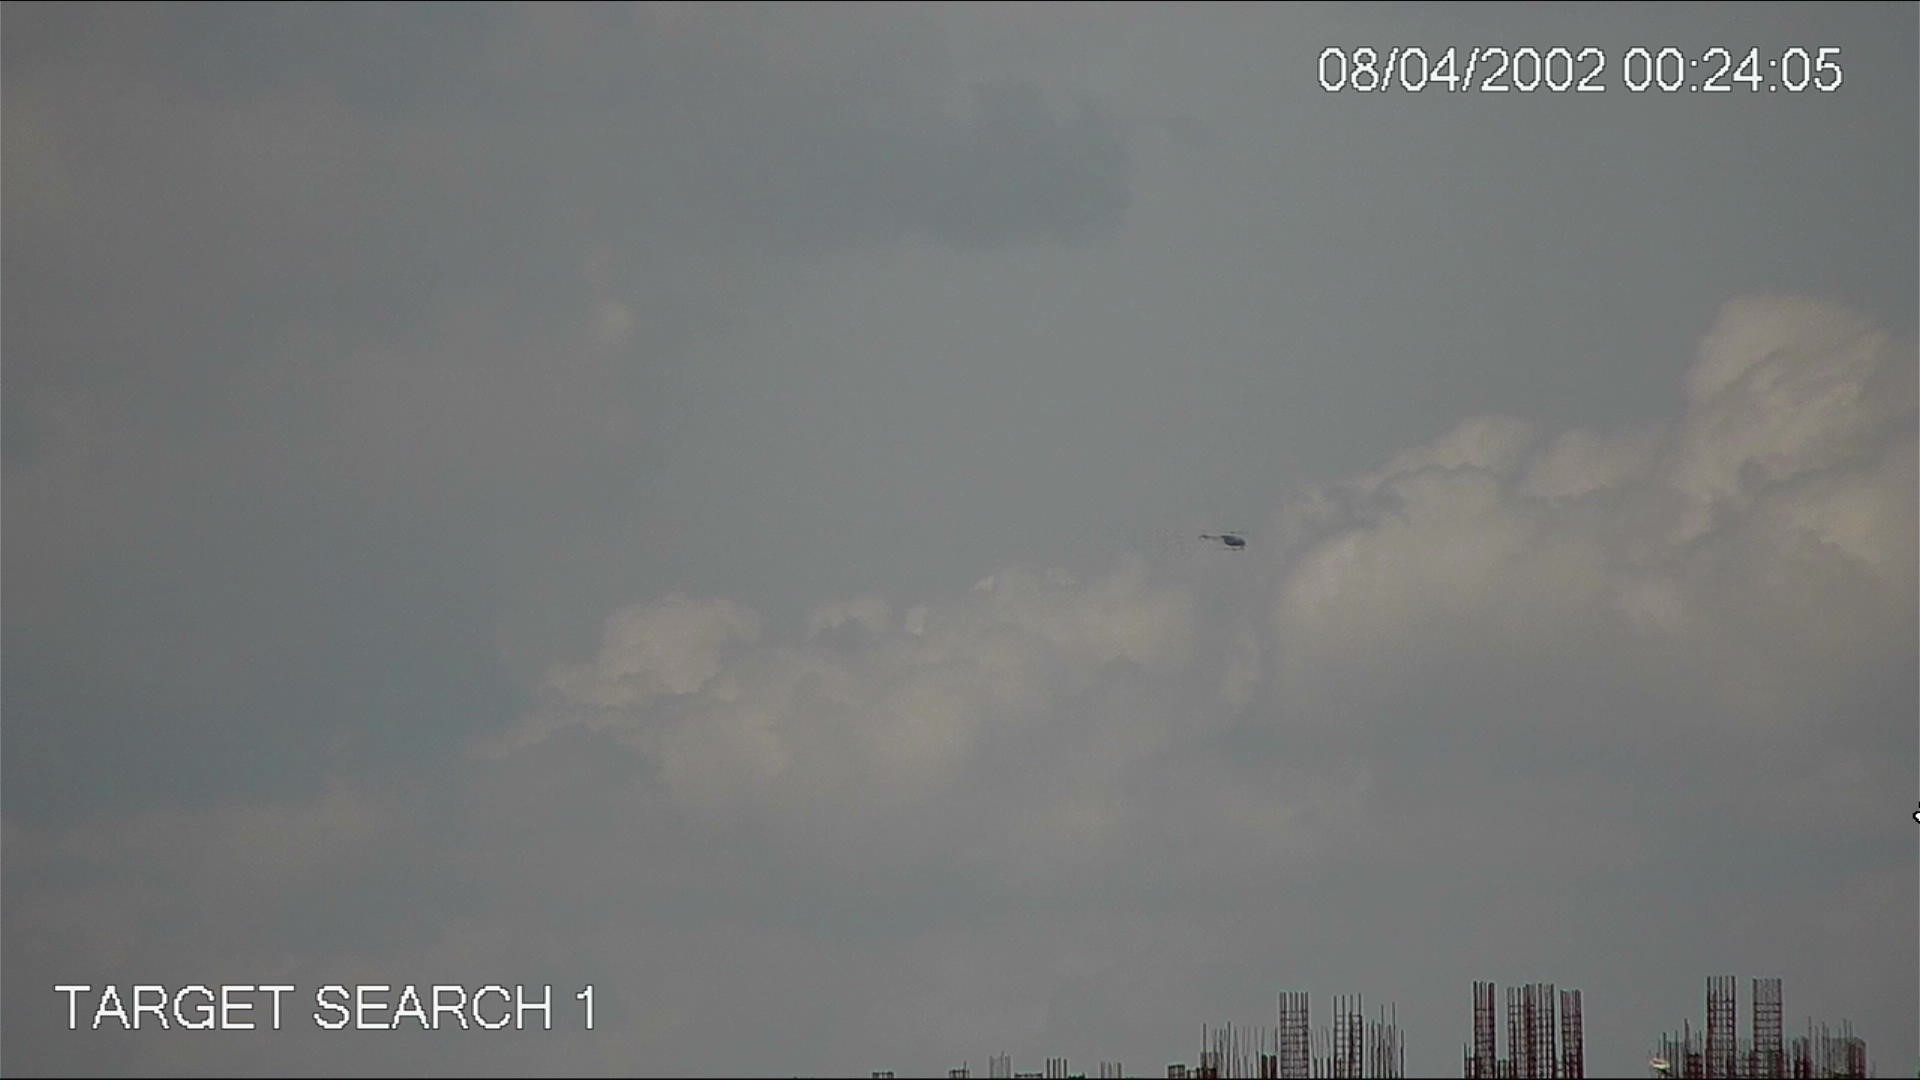SU_30: (1196, 524, 1255, 554)
